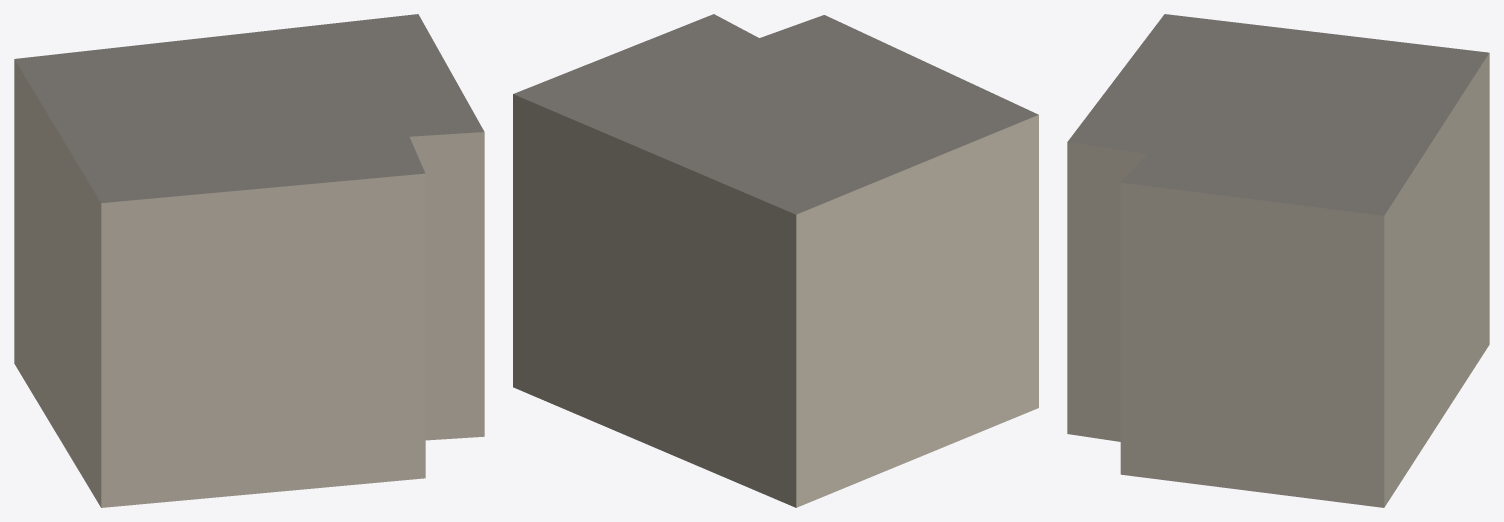
3 renders of one model, left to right at view 1: azimuth 30°, elevation 25°; view 2: azimuth 150°, elevation 25°; view 3: azimuth 270°, elevation 25°, orthographic. The views are drawn at different scales.
Parts seen in each view (by area): view 1: HP-w505643542; view 2: HP-w505643542; view 3: HP-w505643542.
Boxes of the visible parts, left/top/right/bottom form: HP-w505643542: left=14, top=14, right=484, bottom=507; HP-w505643542: left=513, top=14, right=1038, bottom=507; HP-w505643542: left=1067, top=14, right=1489, bottom=507.
Bounding box in the file's own units: 22.24 × 15 × 19.65.
